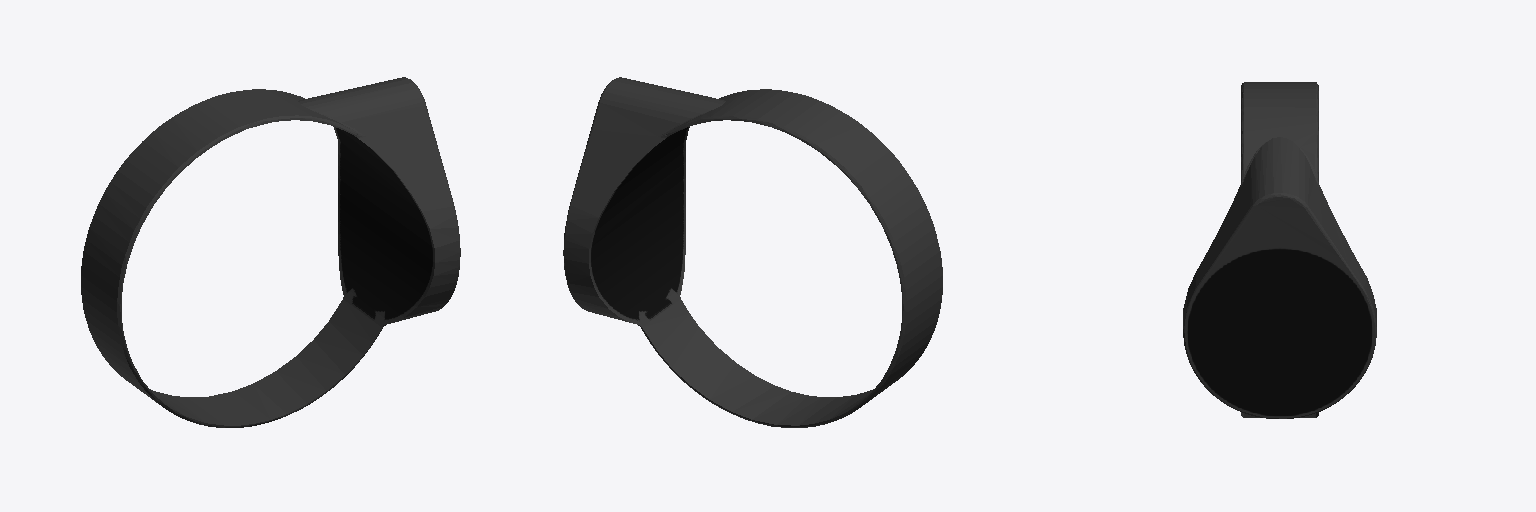
3 views of the same model, side by side, from view 1: azimuth 30°, elevation 25°; view 2: azimuth 150°, elevation 25°; view 3: azimuth 270°, elevation 25° (orthographic).
Visible parts, largest first — view 1: /ambf/env/pr2/l_elbow_flex_link_/ambf/env/pr2/l_elbow_flex_link_; view 2: /ambf/env/pr2/l_elbow_flex_link_/ambf/env/pr2/l_elbow_flex_link_; view 3: /ambf/env/pr2/l_elbow_flex_link_/ambf/env/pr2/l_elbow_flex_link_.
Boxes of the visible parts, box(x1,y1,x2,y2) form: /ambf/env/pr2/l_elbow_flex_link_/ambf/env/pr2/l_elbow_flex_link_: box(81, 77, 460, 427); /ambf/env/pr2/l_elbow_flex_link_/ambf/env/pr2/l_elbow_flex_link_: box(563, 77, 942, 427); /ambf/env/pr2/l_elbow_flex_link_/ambf/env/pr2/l_elbow_flex_link_: box(1183, 82, 1376, 418).
Bounding box in the file's own units: 0.1725 × 0.16 × 0.0925.
Materials: 1 (1 with a texture image).